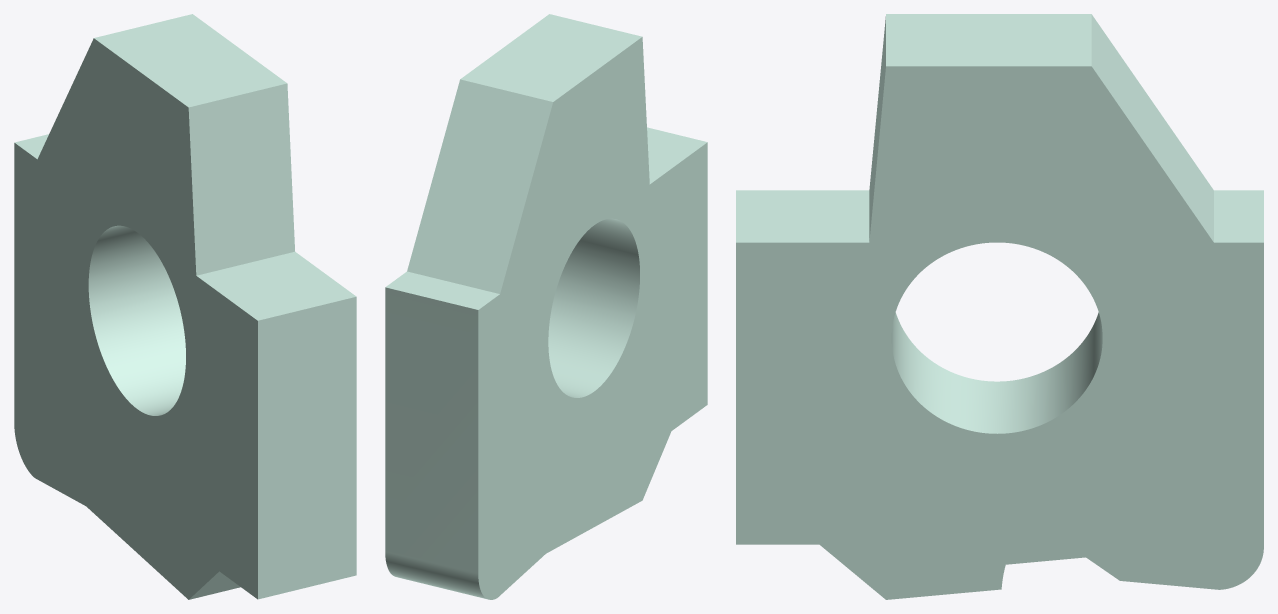
3 views of the same model, side by side, from view 1: azimuth 30°, elevation 25°; view 2: azimuth 150°, elevation 25°; view 3: azimuth 270°, elevation 25° (orthographic). The views are drawn at different scales.
Visible parts, largest first — view 1: Renderer Node; view 2: Renderer Node; view 3: Renderer Node.
Boxes of the visible parts, x1,y1,x2,y2 form: Renderer Node: (14,14,356,599); Renderer Node: (385,14,707,599); Renderer Node: (736,14,1263,599).
Bounding box in the file's own units: 0.2344 × 1.12 × 1.
